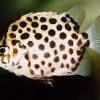Scat Fish: (1, 3, 100, 87)
